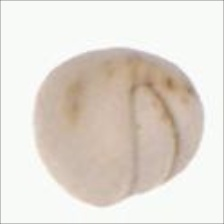L5: (127, 80, 177, 197)
L6: (31, 46, 206, 209)
